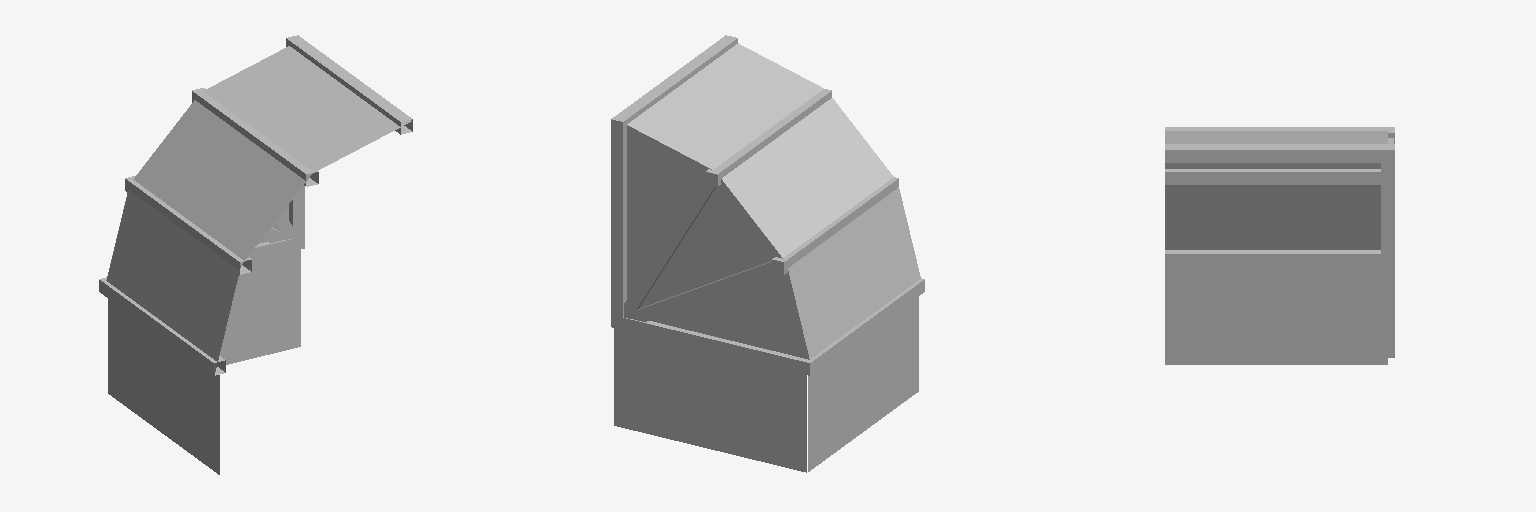
Rendered from mt_awning_basket_left.obj.
3 renders of one model, left to right at view 1: azimuth 30°, elevation 25°; view 2: azimuth 150°, elevation 25°; view 3: azimuth 270°, elevation 25°, orthographic.
Parts seen in each view (by area): view 1: cube, cube.001, cube.000, cube.002, cube.005, cube.014, cube.011, cube.013, cube.012, cube.006, cube.008; view 2: cube.005, cube, cube.001, cube.000, cube.002, cube.003, cube.004, cube.007, cube.006, cube.008, cube.010, cube.009 (+4 smaller); view 3: cube.002, cube.000, cube.014, cube.011, cube.012, cube.001, cube.008, cube, cube.013.
Boxes of the visible parts, <box> form: cube: <box>134,100,312,264</box>; cube.001: <box>204,46,411,172</box>; cube.000: <box>107,190,240,375</box>; cube.002: <box>108,299,219,474</box>; cube.005: <box>219,250,300,364</box>; cube.014: <box>286,35,412,134</box>; cube.011: <box>99,277,225,375</box>; cube.013: <box>192,88,318,186</box>; cube.012: <box>125,176,251,274</box>; cube.006: <box>248,236,304,260</box>; cube.008: <box>289,185,304,238</box>; cube.005: <box>614,328,806,472</box>; cube: <box>722,98,893,257</box>; cube.001: <box>627,43,823,169</box>; cube.000: <box>788,187,920,358</box>; cube.002: <box>808,297,918,471</box>; cube.003: <box>627,125,711,298</box>; cube.004: <box>639,179,782,308</box>; cube.007: <box>650,271,809,359</box>; cube.006: <box>611,315,800,372</box>; cube.008: <box>611,132,626,317</box>; cube.010: <box>624,178,715,318</box>; cube.009: <box>631,261,777,321</box>; cube.002: <box>1165,267,1387,364</box>; cube.000: <box>1165,185,1380,249</box>; cube.014: <box>1165,144,1394,162</box>; cube.011: <box>1165,250,1380,266</box>; cube.012: <box>1165,169,1380,184</box>; cube.001: <box>1165,131,1387,143</box>; cube.008: <box>1381,163,1394,345</box>; cube: <box>1165,163,1380,168</box>; cube.013: <box>1165,127,1394,143</box>.
Size of the model in its own units: 1.03 by 1.53 by 1.03.